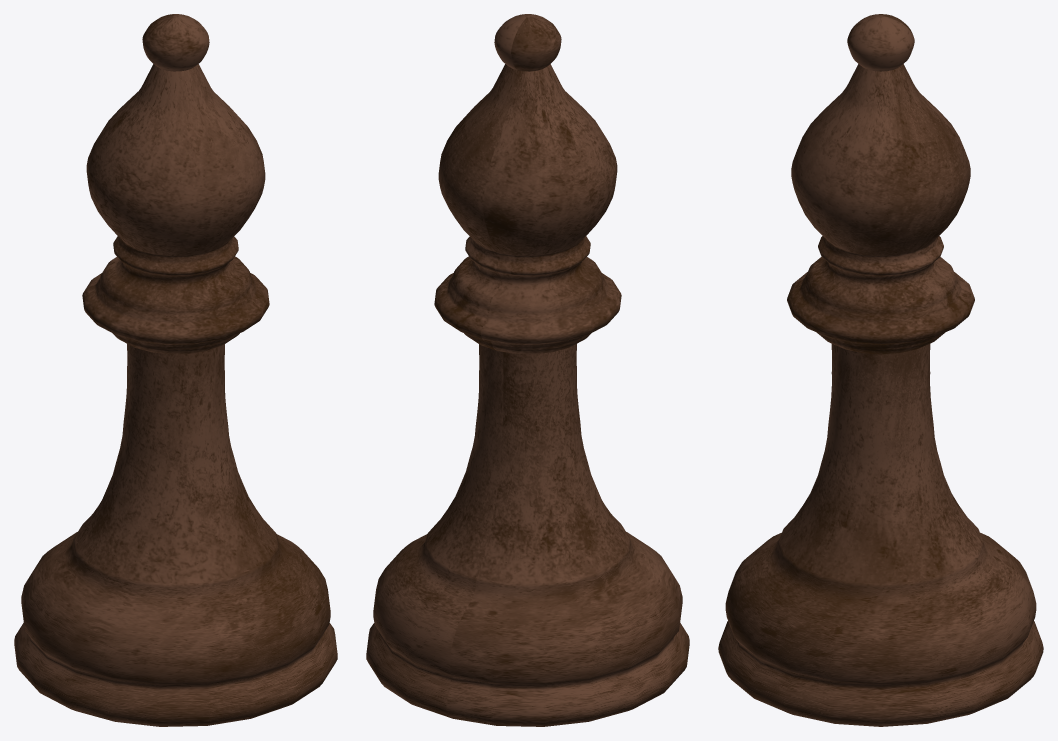
Rendered from bishop.glb.
3 views of the same model, side by side, from view 1: azimuth 30°, elevation 25°; view 2: azimuth 150°, elevation 25°; view 3: azimuth 270°, elevation 25° (orthographic).
Parts seen in each view (by area): view 1: bishop_body; view 2: bishop_body; view 3: bishop_body.
Part boxes in pixels (x1,y1,x2,y2): bishop_body: (14,14,337,726); bishop_body: (366,14,689,726); bishop_body: (718,14,1043,726).
Bounding box in the file's own units: 0.0264 × 0.0584 × 0.0264.
1 material, 1 textured.
